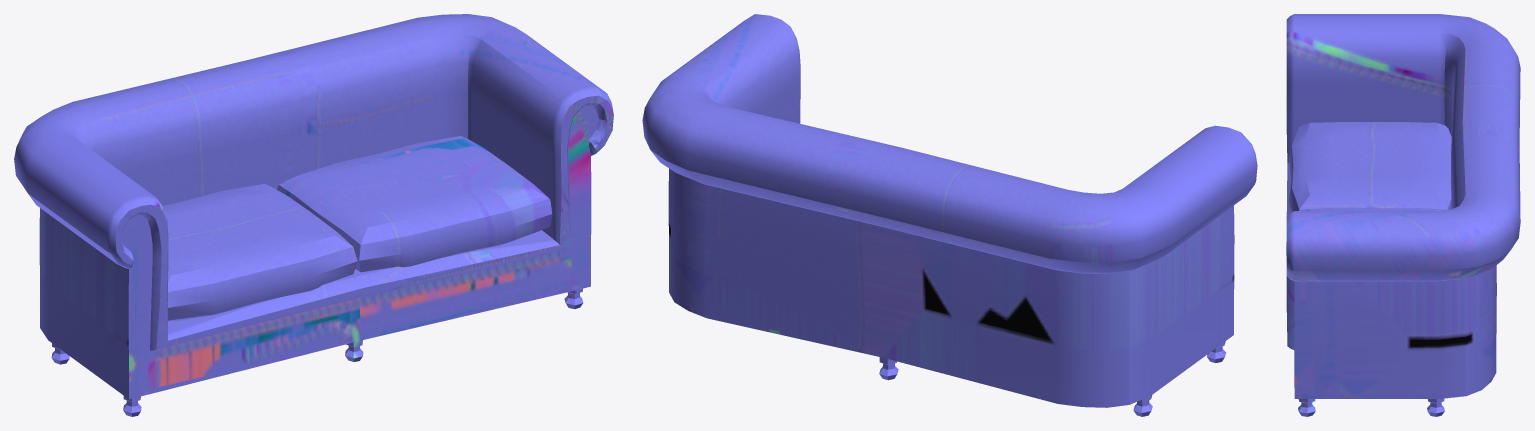
File: Sofa.glb
3 views of the same model, side by side, from view 1: azimuth 30°, elevation 25°; view 2: azimuth 150°, elevation 25°; view 3: azimuth 270°, elevation 25° (orthographic). The views are drawn at different scales.
Visible parts, largest first — view 1: Sofa; view 2: Sofa; view 3: Sofa.
Part boxes in pixels (left/top/right/bottom): Sofa: left=14, top=14, right=613, bottom=416; Sofa: left=642, top=14, right=1257, bottom=416; Sofa: left=1286, top=14, right=1520, bottom=416.
Bounding box in the file's own units: 18.79 × 7.91 × 8.34.
Materials: 1 (1 with a texture image).
